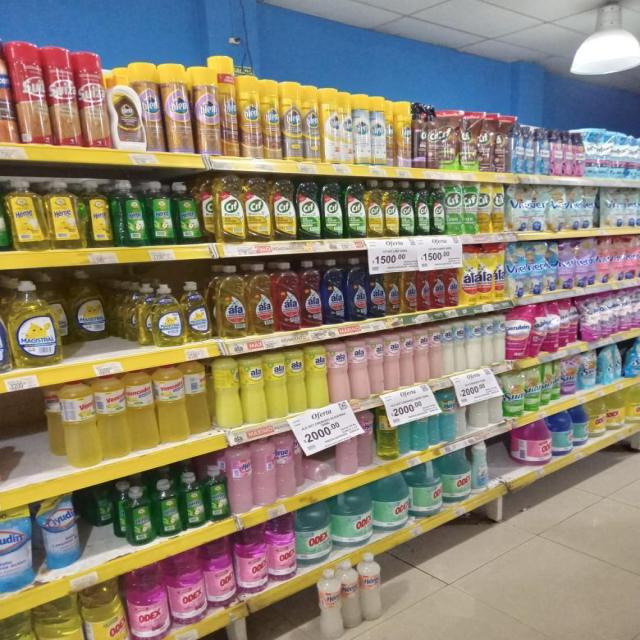ala_conc_amarillo: (213, 264, 246, 338), (248, 263, 273, 335), (385, 261, 400, 316), (401, 260, 416, 314)
ala_conc_azul: (322, 258, 344, 325), (345, 257, 366, 321), (367, 259, 385, 318)
ala_conc_rojo: (274, 261, 300, 332), (301, 260, 321, 328), (430, 259, 445, 309), (445, 257, 458, 307), (417, 260, 429, 312)
ala_crem_amarillo: (212, 356, 240, 429), (241, 353, 265, 425), (265, 351, 287, 420), (306, 344, 328, 409), (287, 348, 306, 414)
ala_crem_blanco: (467, 317, 482, 370), (493, 314, 506, 364), (442, 322, 454, 376), (455, 320, 466, 373), (483, 316, 493, 366)
ala_crem_rosado: (329, 340, 349, 404), (349, 337, 368, 400), (384, 332, 400, 392), (369, 335, 384, 396), (414, 328, 428, 383), (401, 330, 414, 388), (429, 324, 442, 380)
ala_sachet_amarillo: (459, 248, 477, 306), (479, 244, 494, 304), (494, 244, 507, 302)
cif_conc_bot_amarilla: (216, 174, 243, 244), (244, 176, 270, 242), (271, 178, 296, 242), (200, 178, 215, 244), (366, 180, 382, 238), (384, 180, 398, 237)
cif_conc_botella_verde: (297, 180, 320, 240), (322, 180, 343, 240), (345, 180, 365, 239), (414, 181, 430, 236), (399, 180, 414, 237), (430, 182, 444, 235)
cif_conc_sachet_amarillo: (492, 182, 506, 233), (478, 182, 491, 233)
cif_conc_sachet_verde: (445, 182, 462, 235), (462, 182, 477, 234)
heroe: (228, 442, 252, 514), (318, 569, 343, 638), (360, 553, 382, 621), (276, 433, 296, 499)
magistral_con_amarillo: (10, 279, 62, 368), (68, 272, 110, 342), (154, 283, 182, 347), (183, 280, 210, 342), (137, 282, 153, 346)
magistral_con_azul: (0, 282, 8, 376)
vencedor: (156, 363, 187, 443), (127, 370, 157, 451), (186, 360, 210, 434)
